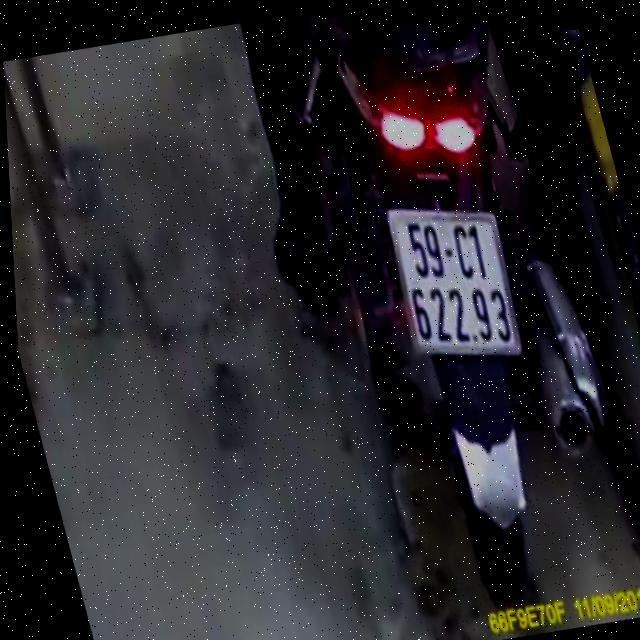motorcycle: (278, 14, 640, 639)
plate: (373, 181, 537, 386)
